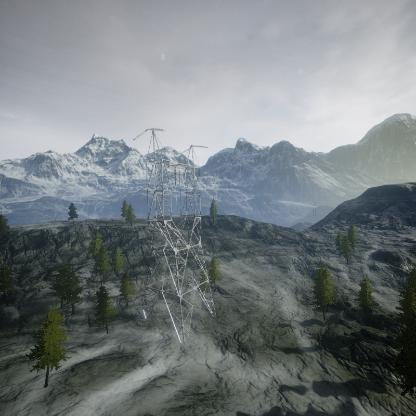tower: (130, 127, 217, 347)
